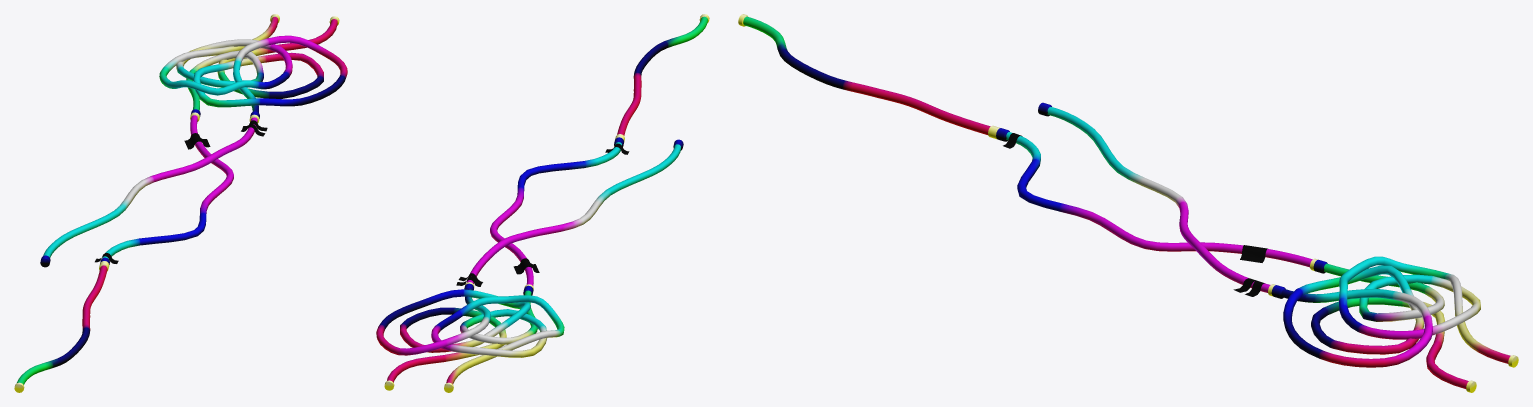
File: VeilCable.fbx
3 renders of one model, left to right at view 1: azimuth 30°, elevation 25°; view 2: azimuth 210°, elevation 25°; view 3: azimuth 270°, elevation 25°, orthographic. The views are drawn at different scales.
Parts seen in each view (by area): view 1: 623DD580_Group0_Index0_0_MainGeom0.001, 613DD580_Group0_Index0_0_MainGeom0.001, 603DD580_Group0_Index0_0_MainGeom0.001; view 2: 623DD580_Group0_Index0_0_MainGeom0.001, 613DD580_Group0_Index0_0_MainGeom0.001, 603DD580_Group0_Index0_0_MainGeom0.001; view 3: 623DD580_Group0_Index0_0_MainGeom0.001, 613DD580_Group0_Index0_0_MainGeom0.001, 603DD580_Group0_Index0_0_MainGeom0.001.
Part boxes in pixels (left/top/right/bottom): 623DD580_Group0_Index0_0_MainGeom0.001: left=159, top=14, right=347, bottom=118; 613DD580_Group0_Index0_0_MainGeom0.001: left=40, top=112, right=267, bottom=267; 603DD580_Group0_Index0_0_MainGeom0.001: left=14, top=261, right=109, bottom=392; 623DD580_Group0_Index0_0_MainGeom0.001: left=376, top=283, right=564, bottom=392; 613DD580_Group0_Index0_0_MainGeom0.001: left=456, top=137, right=683, bottom=289; 603DD580_Group0_Index0_0_MainGeom0.001: left=615, top=14, right=709, bottom=141; 623DD580_Group0_Index0_0_MainGeom0.001: left=1271, top=256, right=1518, bottom=392; 613DD580_Group0_Index0_0_MainGeom0.001: left=996, top=102, right=1317, bottom=296; 603DD580_Group0_Index0_0_MainGeom0.001: left=738, top=14, right=999, bottom=139.
Bounding box in the file's own units: 1202 × 39.42 × 1067.
